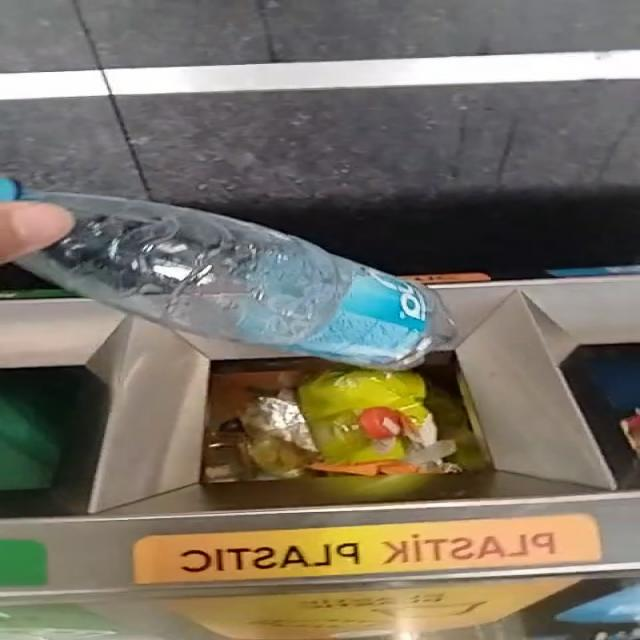plastic: (3, 183, 453, 370)
